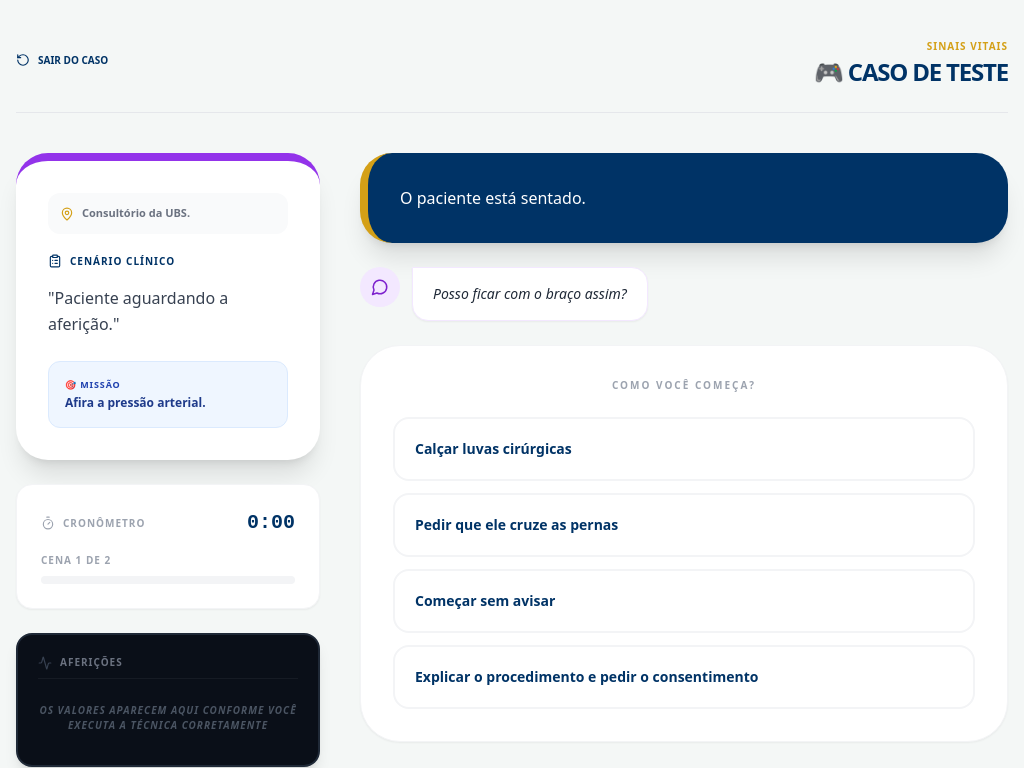
Test case: GuidedRpgView › escolha errada mostra a consequência, trava aquela opção e não avança a cena
Click the button "Começar sem avisar".
click(485, 600)  # box [393,569,975,633]
(page scrolled)
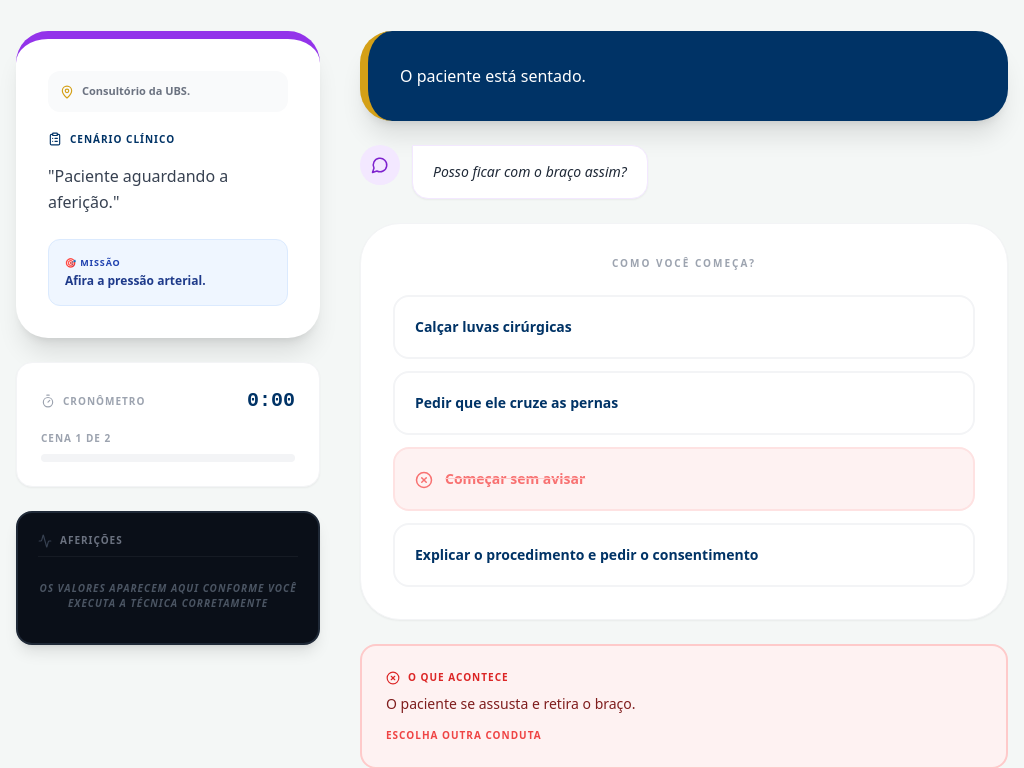
expect the text "O paciente está sentado." is shown: met, box [400,65,586,87]
expect the text "O paciente se assusta e retira o braço." is shown: met, box [386,694,636,713]
expect the button "Começar sem avisar" is disabled: met, box [393,447,975,511]
